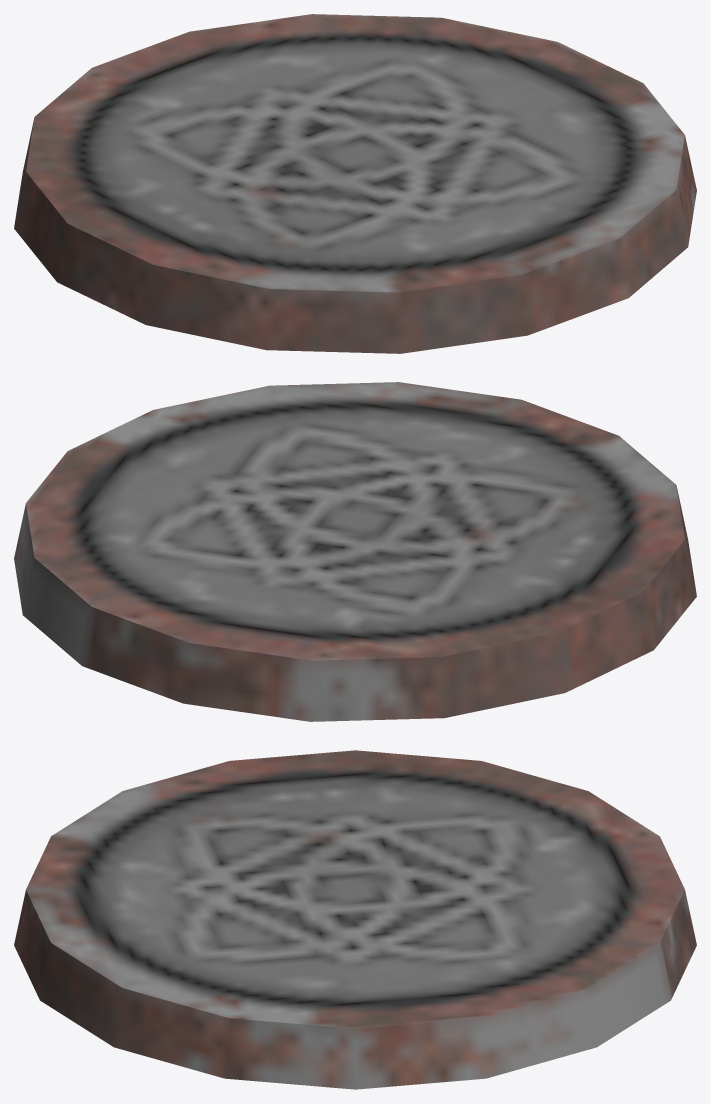
The model's file is MB_Sewer_Hatch_05.fbx.
3 renders of one model, top to bottom at view 1: azimuth 30°, elevation 25°; view 2: azimuth 150°, elevation 25°; view 3: azimuth 270°, elevation 25°, orthographic.
Parts seen in each view (by area): view 1: MB_Sewer_Hatch_05; view 2: MB_Sewer_Hatch_05; view 3: MB_Sewer_Hatch_05.
Part boxes in pixels (<box>): MB_Sewer_Hatch_05: <box>14,14,696,353</box>; MB_Sewer_Hatch_05: <box>14,382,696,721</box>; MB_Sewer_Hatch_05: <box>14,750,696,1089</box>.
Bounding box in the file's own units: 12.29 × 1.11 × 12.29.
